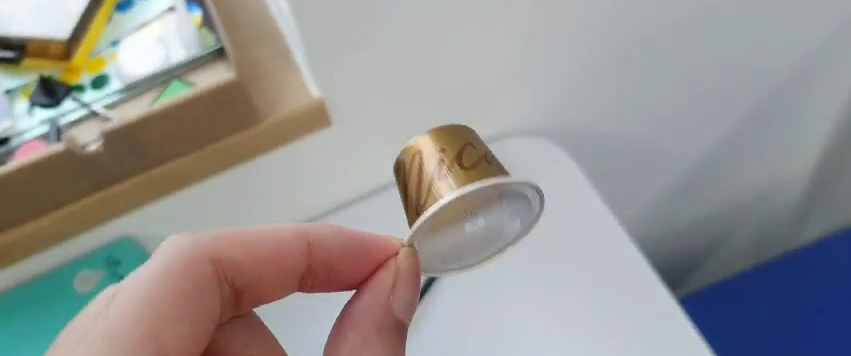capsule_9: (386, 123, 548, 280)
